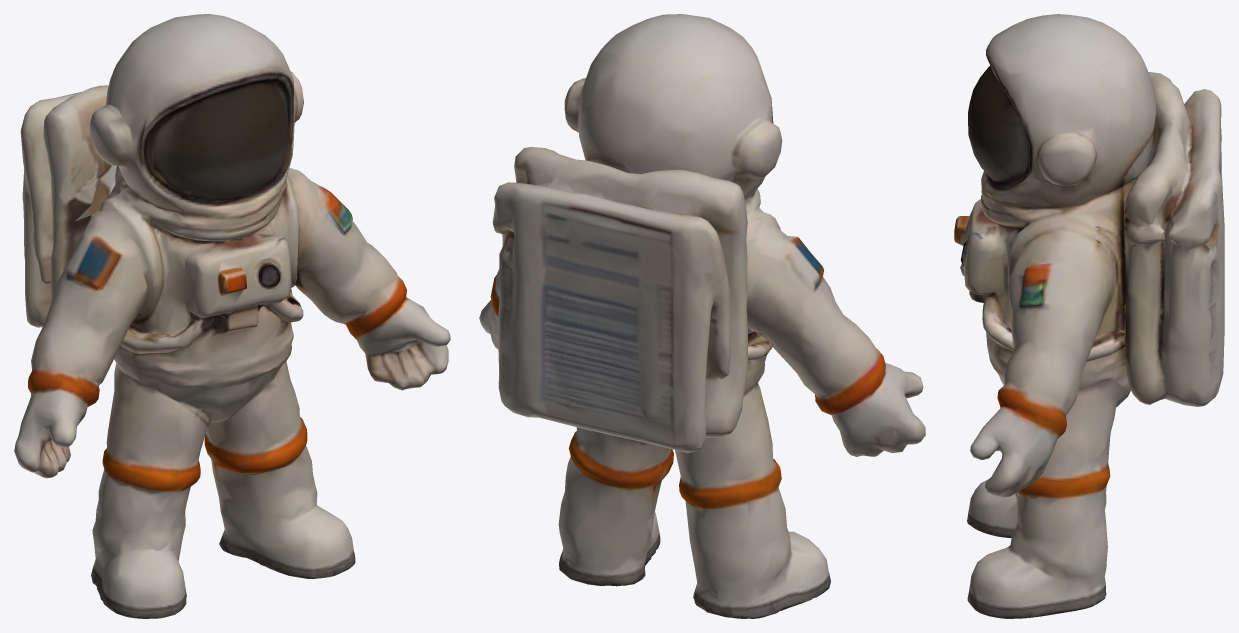
The model's file is char_astronaut.glb.
3 views of the same model, side by side, from view 1: azimuth 30°, elevation 25°; view 2: azimuth 150°, elevation 25°; view 3: azimuth 270°, elevation 25° (orthographic). The views are drawn at different scales.
Parts seen in each view (by area): view 1: geometry_0; view 2: geometry_0; view 3: geometry_0.
Part boxes in pixels (left/top/right/bottom): geometry_0: left=14, top=14, right=450, bottom=618; geometry_0: left=479, top=14, right=925, bottom=618; geometry_0: left=954, top=14, right=1224, bottom=618.
Bounding box in the file's own units: 1.63 × 1.96 × 0.8942.
1 material, 1 textured.
